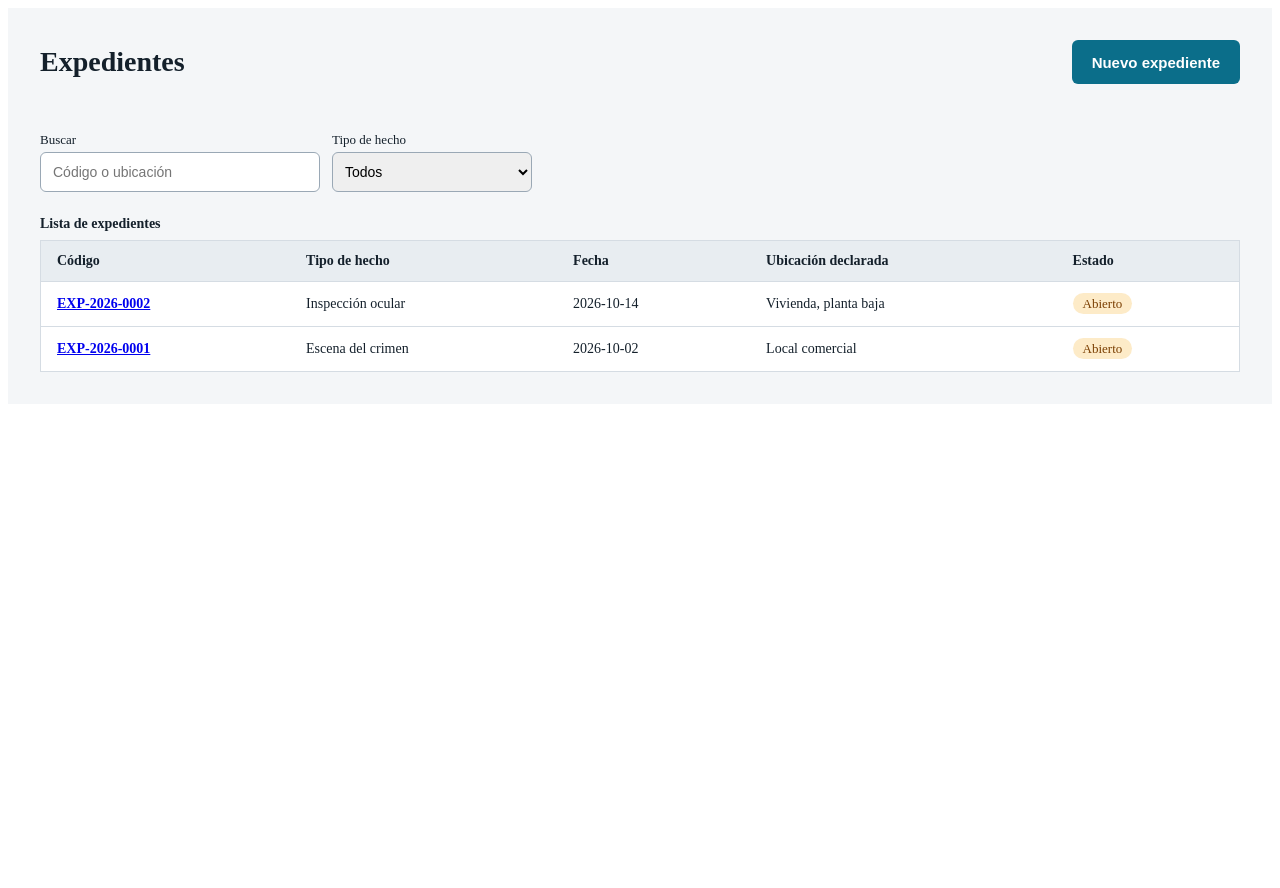
Test: CaseListPage › maps server validation errors to their fields
Check: the table is shown, box [40,216,1240,372]
Click the button "Nuevo expediente" at (1156, 62), box [1072,40,1240,84]
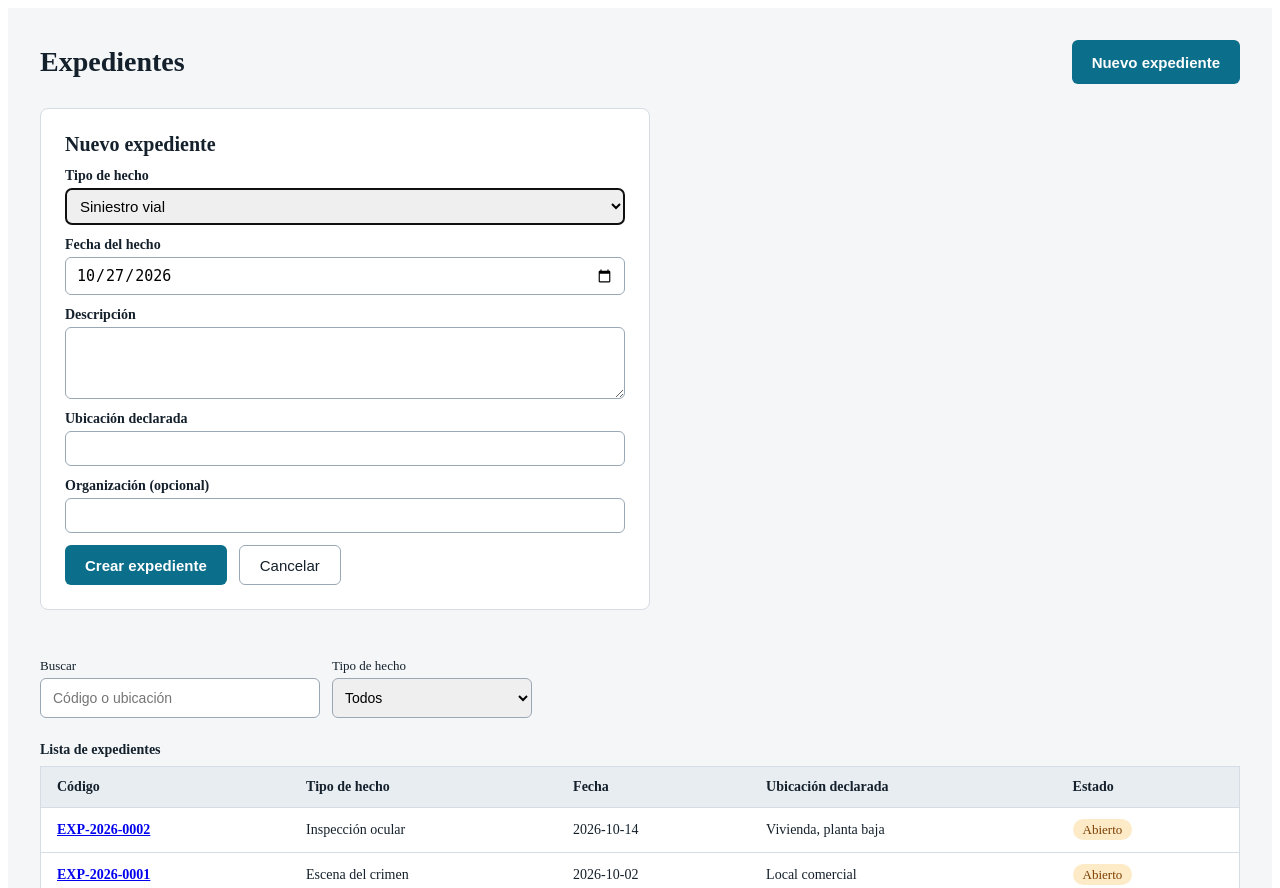
Type "Hecho" into the text box labelled "Descripción" at (345, 363), box [65,327,625,399]
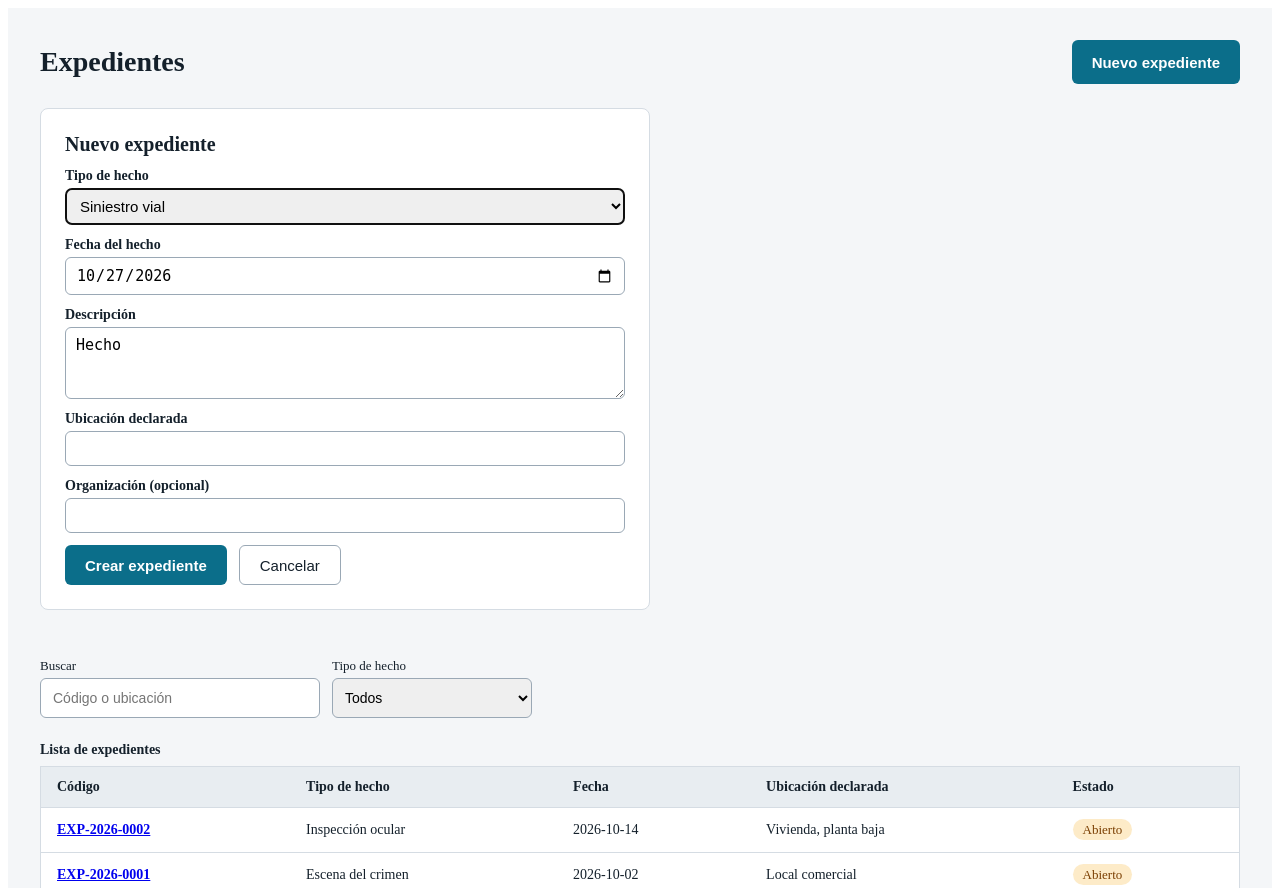
Type "Calle 1" into the field labelled "Ubicación declarada" at (345, 448), box [65,431,625,466]
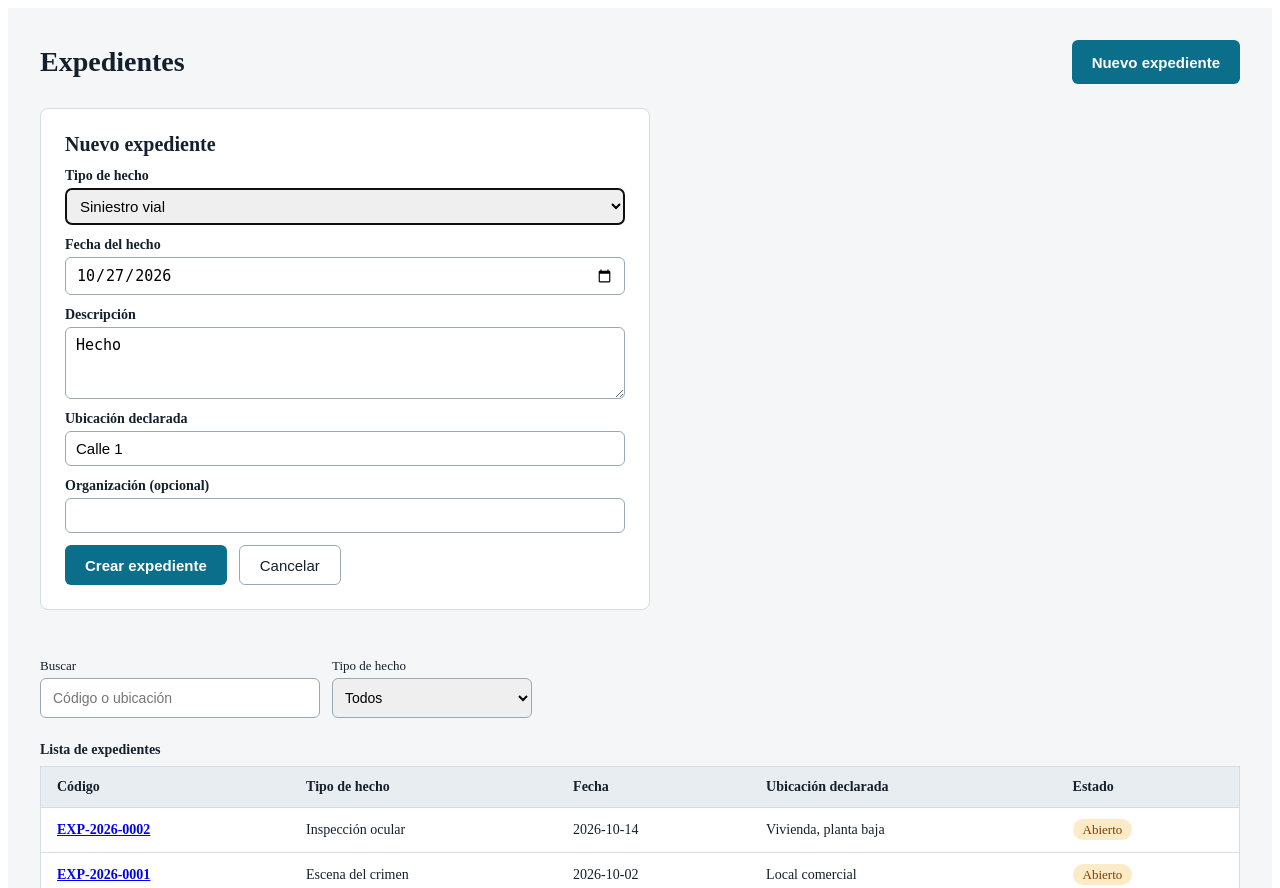
Click the button "Crear expediente" at (146, 565), box [65,545,227,585]
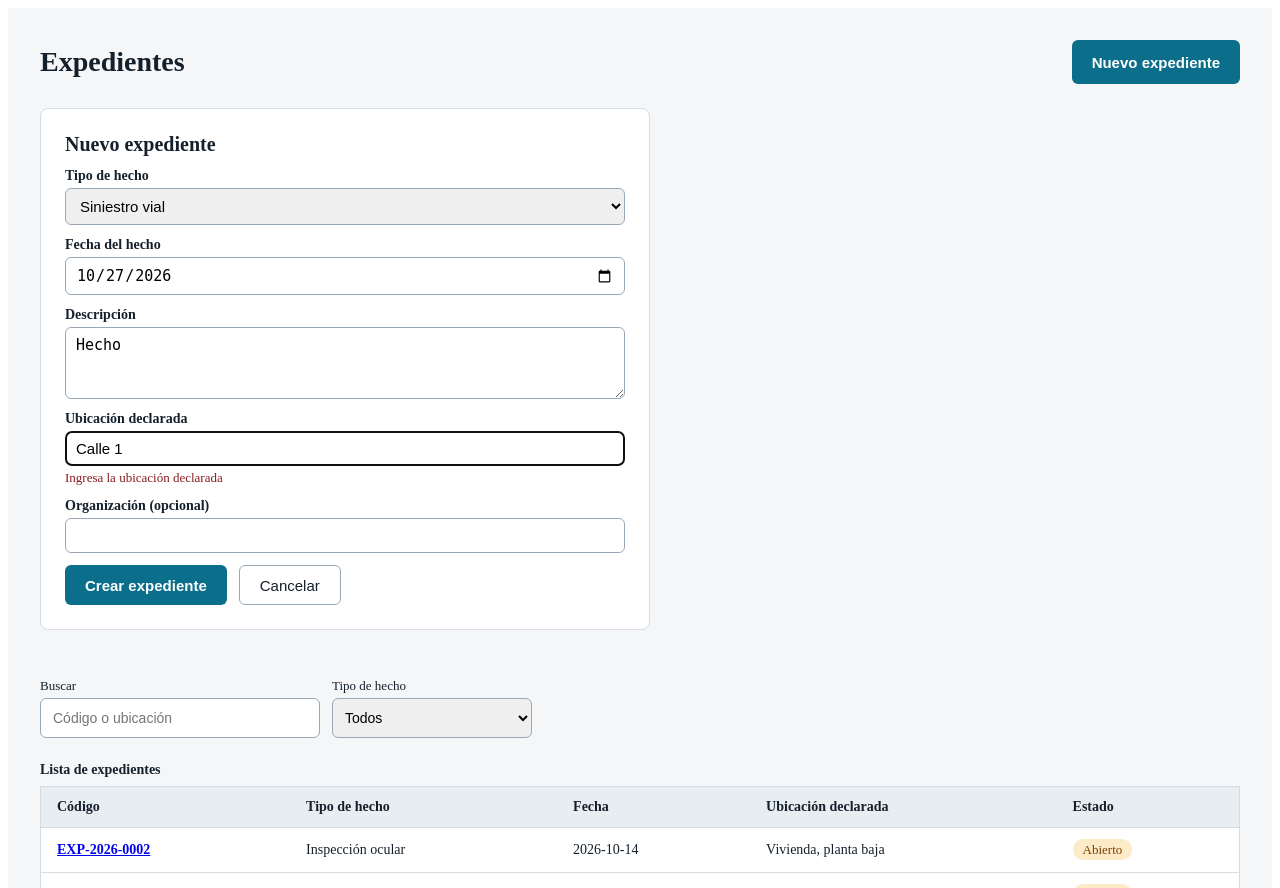
Check: the text "Ingresa la ubicación declarada" is shown, box [65,470,223,485]
